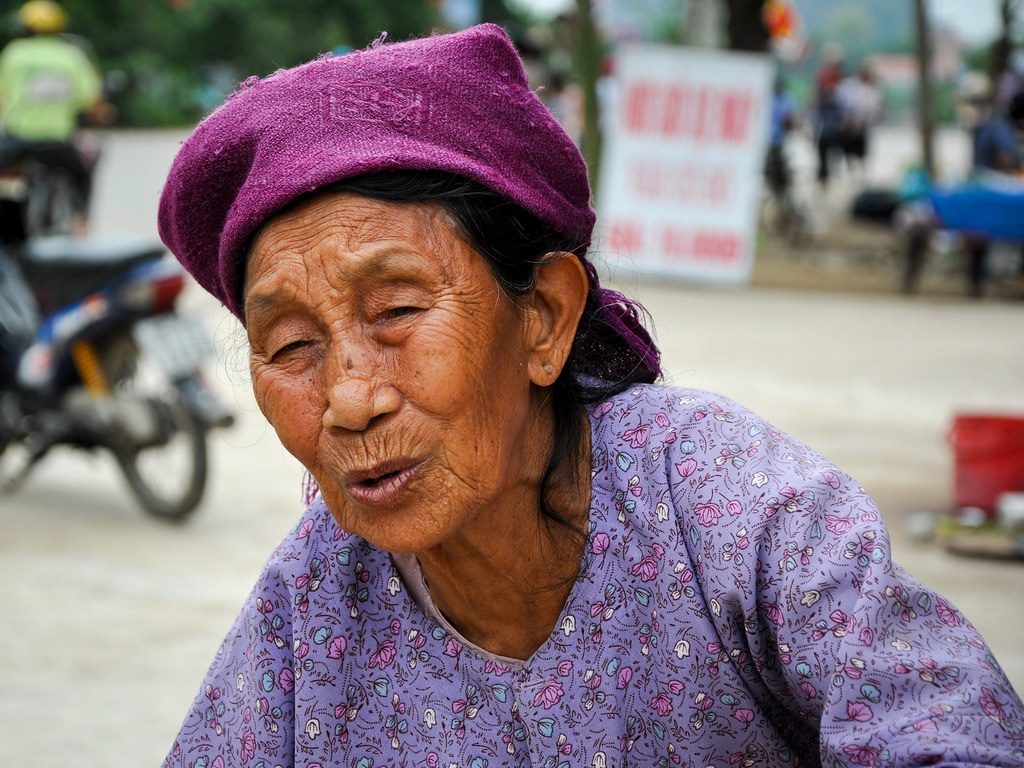without_mask: (216, 187, 571, 565)
